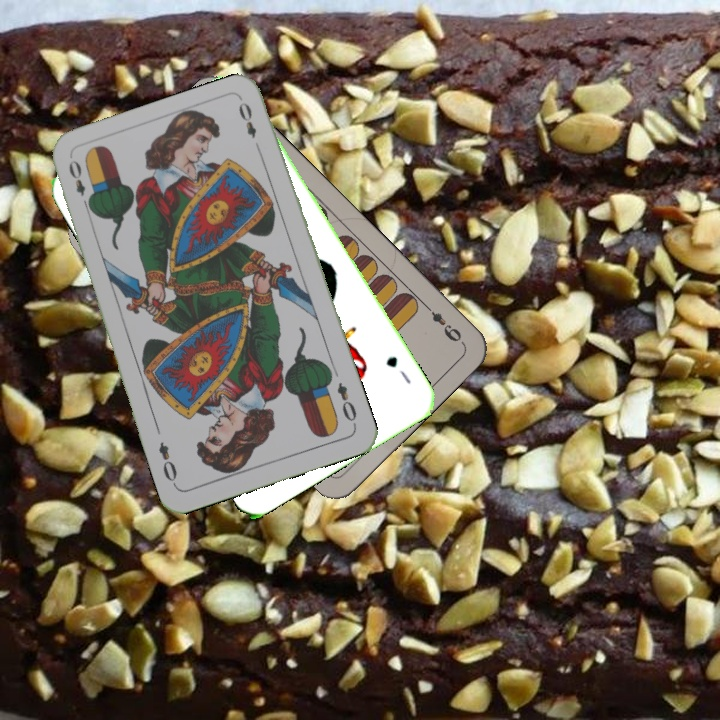E9: (420, 299, 465, 345)
EO: (64, 155, 95, 213), (333, 378, 360, 429)
GU: (382, 351, 414, 387)
